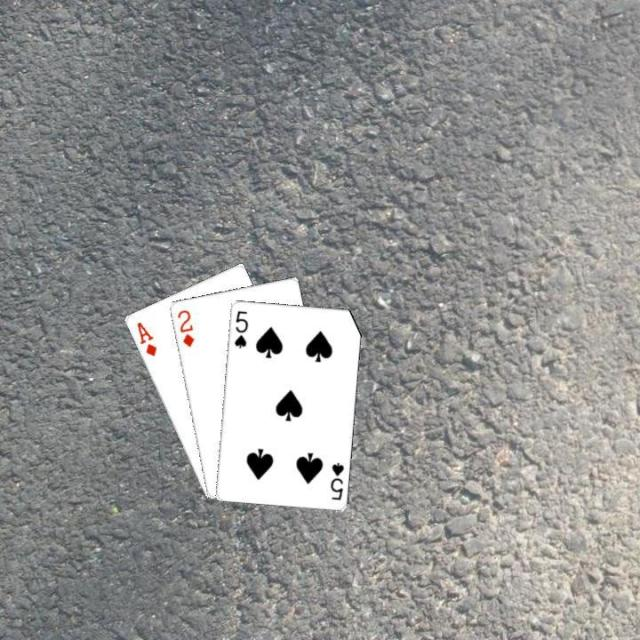2D: (173, 306, 196, 348)
5S: (230, 307, 250, 349), (326, 458, 345, 501)
AD: (132, 317, 158, 358)
